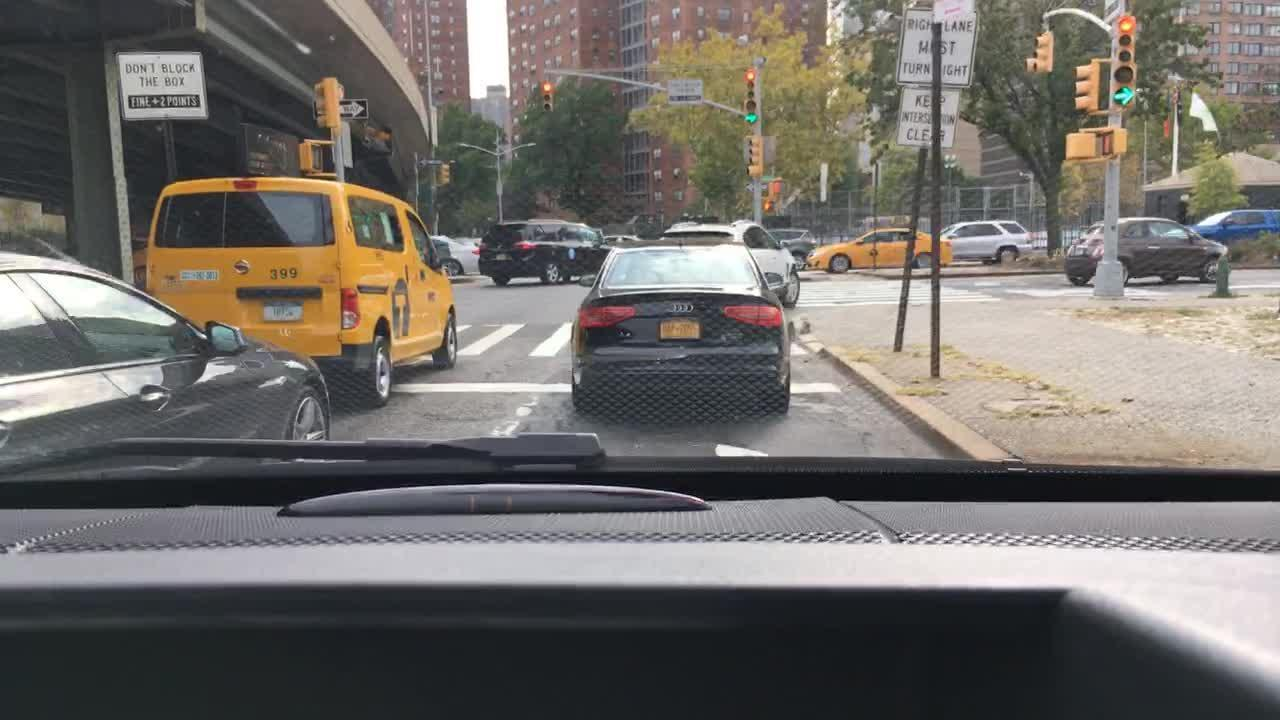Audi: (665, 300, 700, 314)
Nissan: (233, 257, 254, 280)
